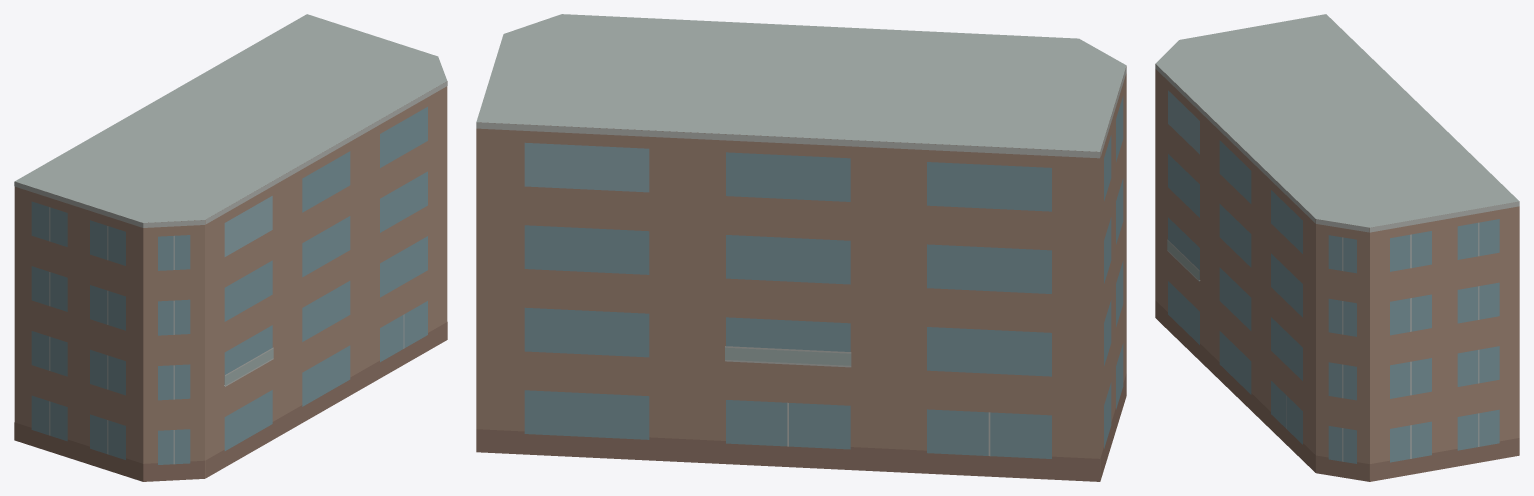
The model's file is survey-upis-33018902.glb.
The picture shows the model from 3 angles, left to right: view 1: azimuth 30°, elevation 25°; view 2: azimuth 150°, elevation 25°; view 3: azimuth 270°, elevation 25°; orthographic projection. The views are drawn at different scales.
Visible parts, largest first — view 1: survey-upis-33018902.tmp; view 2: survey-upis-33018902.tmp; view 3: survey-upis-33018902.tmp.
Part boxes in pixels (x1,y1,x2,y2): survey-upis-33018902.tmp: (14,14,447,481); survey-upis-33018902.tmp: (476,14,1126,481); survey-upis-33018902.tmp: (1155,14,1519,481).
Size of the model in its own units: 22.76 by 12.62 by 16.4.
